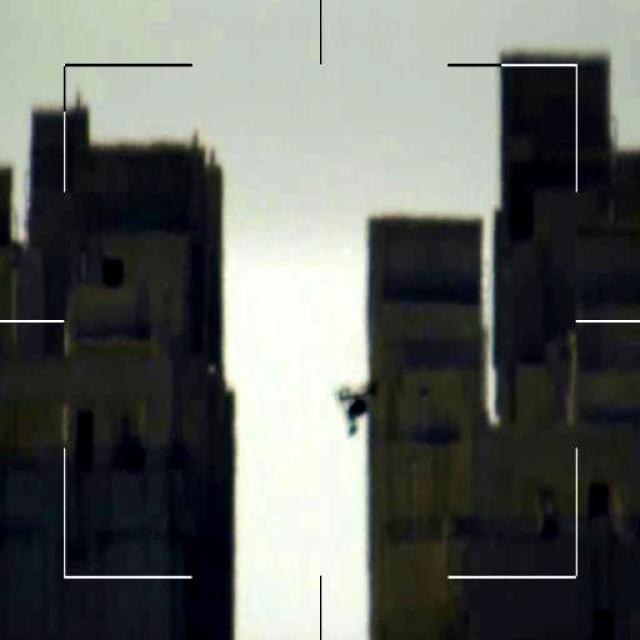bird: (328, 379, 380, 445)
